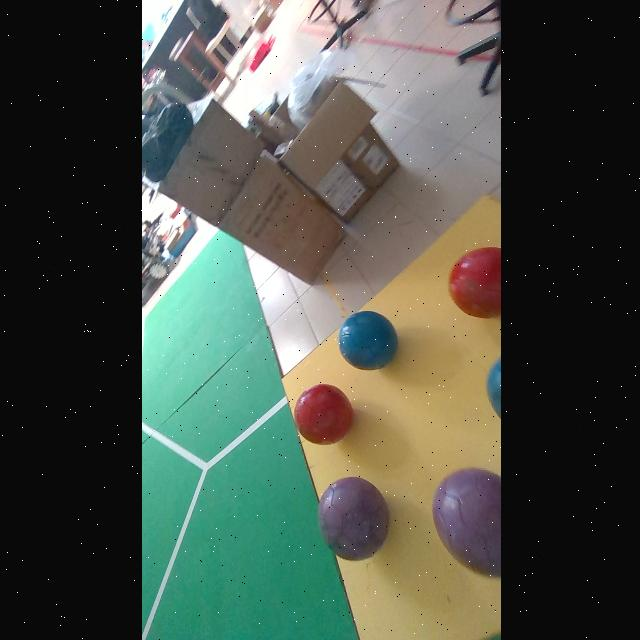B: (336, 311, 396, 371), (485, 358, 500, 419)
P: (432, 469, 500, 578), (316, 477, 387, 561)
R: (447, 248, 500, 319), (292, 383, 351, 444)
